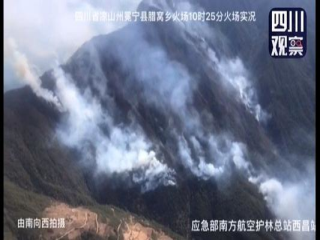smoke: (8, 6, 278, 204)
